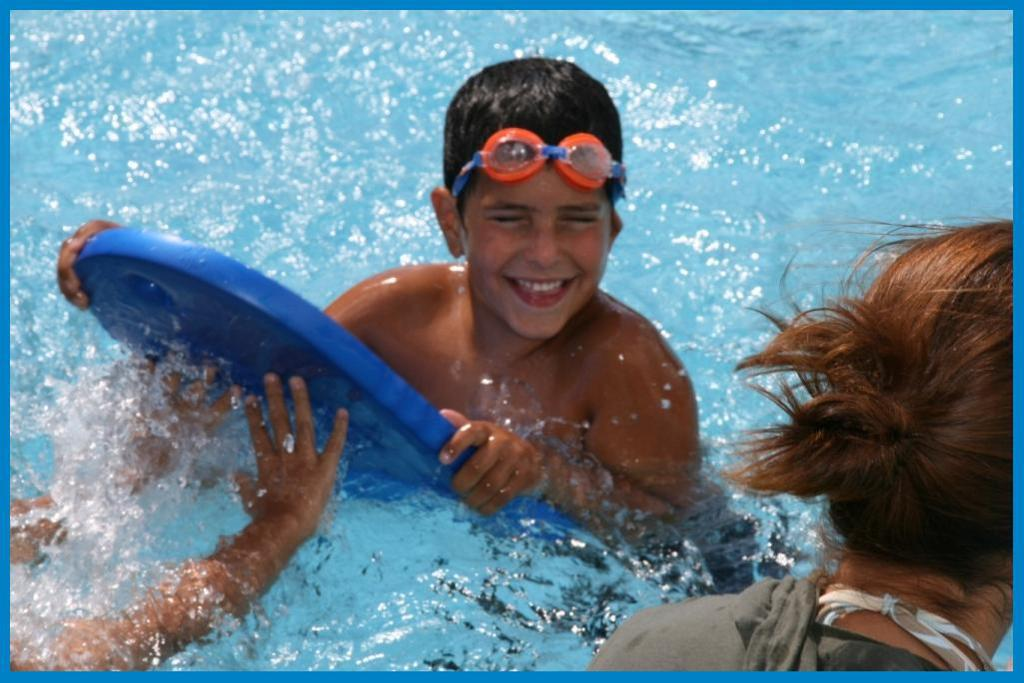face: (459, 123, 619, 343)
